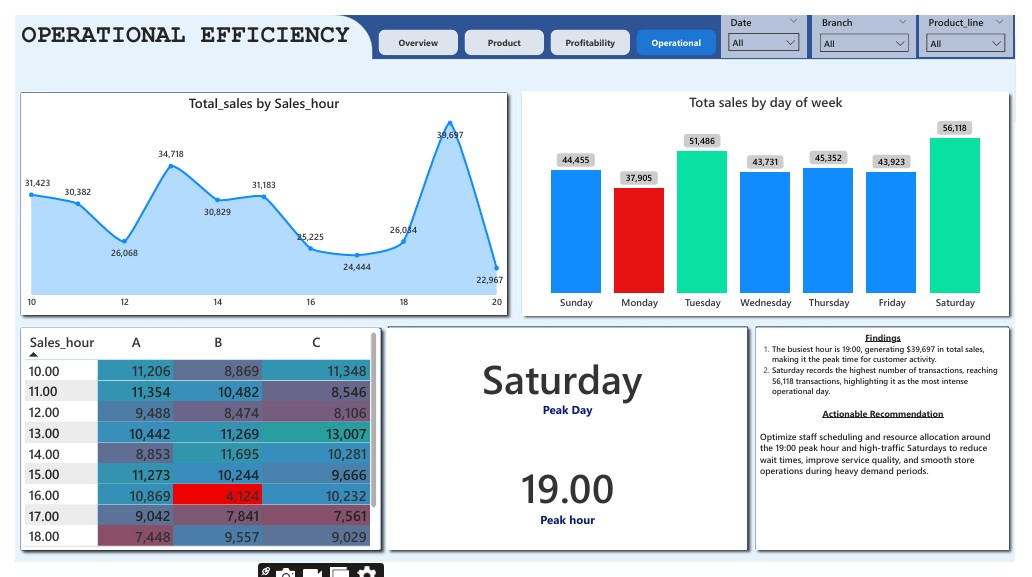

The dashboard page shown, as its layout file describes it:
{"tool":"powerbi","page":{"name":"Operational","canvas":[1500,820],"ordinal":3},"visuals":[{"type":"lineChart","fields":{"Y":["Sum(Operational Efficiency.total_sales)"],"Category":["Operational Efficiency.sales_hour"]},"box":[8.3,116.7,728.1,332.3],"z":0},{"type":"columnChart","title":"Tota sales by day of week","fields":{"Category":["Operational Efficiency.day_of_week"],"Y":["Sum(Operational Efficiency.total_sales)"]},"box":[759.8,116.1,729.9,334.5],"z":1000},{"type":"pivotTable","fields":{"Rows":["Operational Efficiency.sales_hour"],"Columns":["Operational Efficiency.branch"],"Values":["Sum(Operational Efficiency.total_sales)"]},"box":[9.3,470.4,537,331.5],"z":2000},{"type":"card","fields":{"Values":["Avg margin.Peak hour"]},"box":[558.3,633.3,538.3,168.3],"z":3000},{"type":"card","fields":{"Values":["Avg margin.Peak Day"]},"box":[558.3,470,538.3,166.7],"z":4000},{"type":"textbox","box":[3,5,532.7,79.6],"z":5000},{"type":"pageNavigator","box":[544.3,20,510,42],"z":5001},{"type":"slicer","fields":{"Values":["Supermarket.branch"]},"box":[1194.7,1.3,156.6,63.2],"z":5002},{"type":"slicer","fields":{"Values":["Supermarket.product_line"]},"box":[1355.3,1.3,140.8,61.8],"z":5003},{"type":"slicer","fields":{"Values":["Supermarket.date"]},"box":[1058,0,129,63],"z":5004},{"type":"textbox","box":[1111.5,470.5,378.7,331.1],"z":5005}]}

Visuals, with their boxes in screenshot pixels (x1, y1, x2, y2), scaled from the page's 1500x820 canvas onto the 1032x577 screenshot:
lineChart - Sum(Operational Efficiency.total_sales) x Operational Efficiency.sales_hour: {"x1": 6, "y1": 82, "x2": 507, "y2": 316}
"Tota sales by day of week" columnChart: {"x1": 523, "y1": 82, "x2": 1025, "y2": 317}
pivotTable - Operational Efficiency.sales_hour x Operational Efficiency.branch: {"x1": 6, "y1": 331, "x2": 376, "y2": 564}
card - Avg margin.Peak hour: {"x1": 384, "y1": 446, "x2": 754, "y2": 564}
card - Avg margin.Peak Day: {"x1": 384, "y1": 331, "x2": 754, "y2": 448}
textbox: {"x1": 2, "y1": 4, "x2": 369, "y2": 60}
pageNavigator: {"x1": 374, "y1": 14, "x2": 725, "y2": 44}
slicer - Supermarket.branch: {"x1": 822, "y1": 1, "x2": 930, "y2": 45}
slicer - Supermarket.product_line: {"x1": 932, "y1": 1, "x2": 1029, "y2": 44}
slicer - Supermarket.date: {"x1": 728, "y1": 0, "x2": 817, "y2": 44}
textbox: {"x1": 765, "y1": 331, "x2": 1025, "y2": 564}
